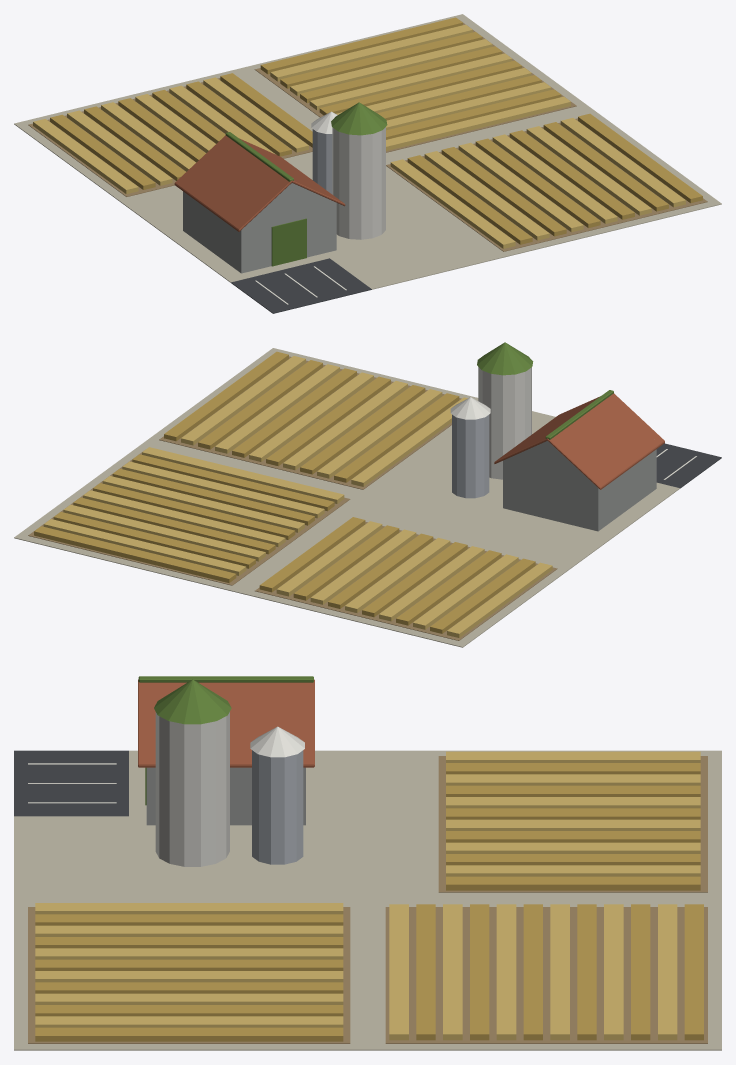
File: farm_ripe.glb
3 renders of one model, top to bottom at view 1: azimuth 30°, elevation 25°; view 2: azimuth 150°, elevation 25°; view 3: azimuth 270°, elevation 25°, orthographic. The views are drawn at different scales.
Visible parts, largest first — view 1: farm_ripe; view 2: farm_ripe; view 3: farm_ripe.
Part boxes in pixels (<box>): farm_ripe: <box>14,14,721,313</box>; farm_ripe: <box>14,342,721,647</box>; farm_ripe: <box>14,676,721,1050</box>.
Size of the model in its own units: 40 by 10.8 by 40.
